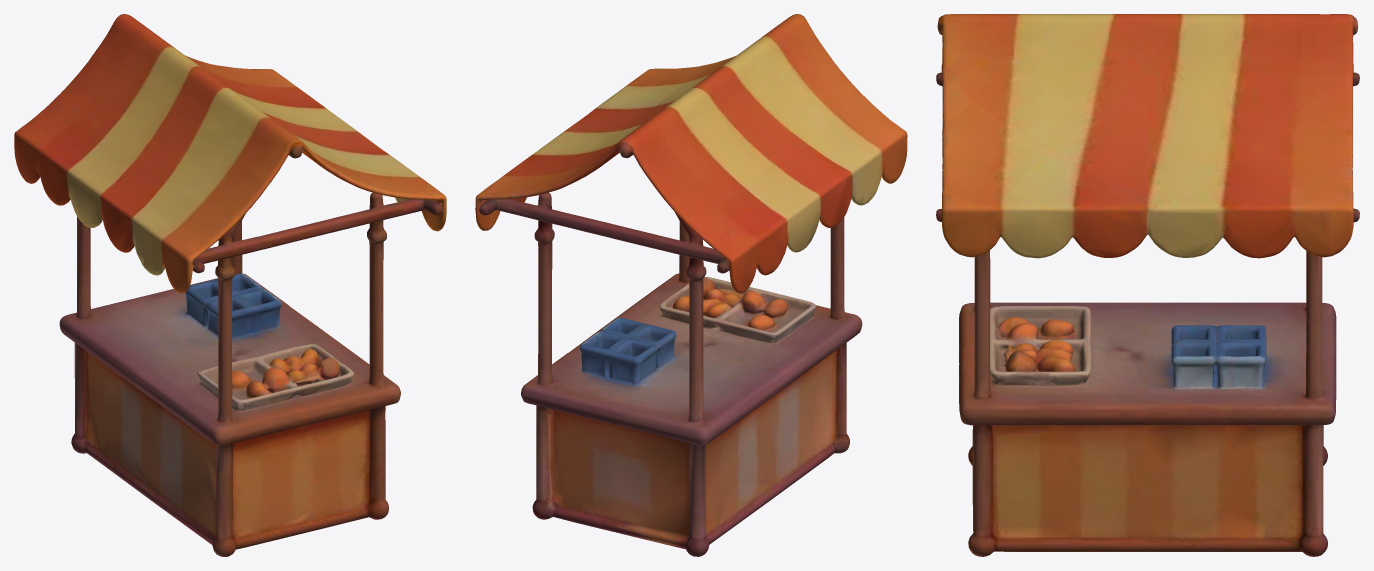
Rendered from market_stall_awning.glb.
3 views of the same model, side by side, from view 1: azimuth 30°, elevation 25°; view 2: azimuth 150°, elevation 25°; view 3: azimuth 270°, elevation 25° (orthographic). The views are drawn at different scales.
Parts seen in each view (by area): view 1: tripo_node_5414f3c5-3053-4f2c-b917-8dded716127e; view 2: tripo_node_5414f3c5-3053-4f2c-b917-8dded716127e; view 3: tripo_node_5414f3c5-3053-4f2c-b917-8dded716127e.
Boxes of the visible parts, x1,y1,x2,y2 form: tripo_node_5414f3c5-3053-4f2c-b917-8dded716127e: (14,14,446,556); tripo_node_5414f3c5-3053-4f2c-b917-8dded716127e: (475,14,907,556); tripo_node_5414f3c5-3053-4f2c-b917-8dded716127e: (936,14,1359,556).
Size of the model in its own units: 0.5859 by 0.9283 by 0.7053.
1 material, 1 textured.
